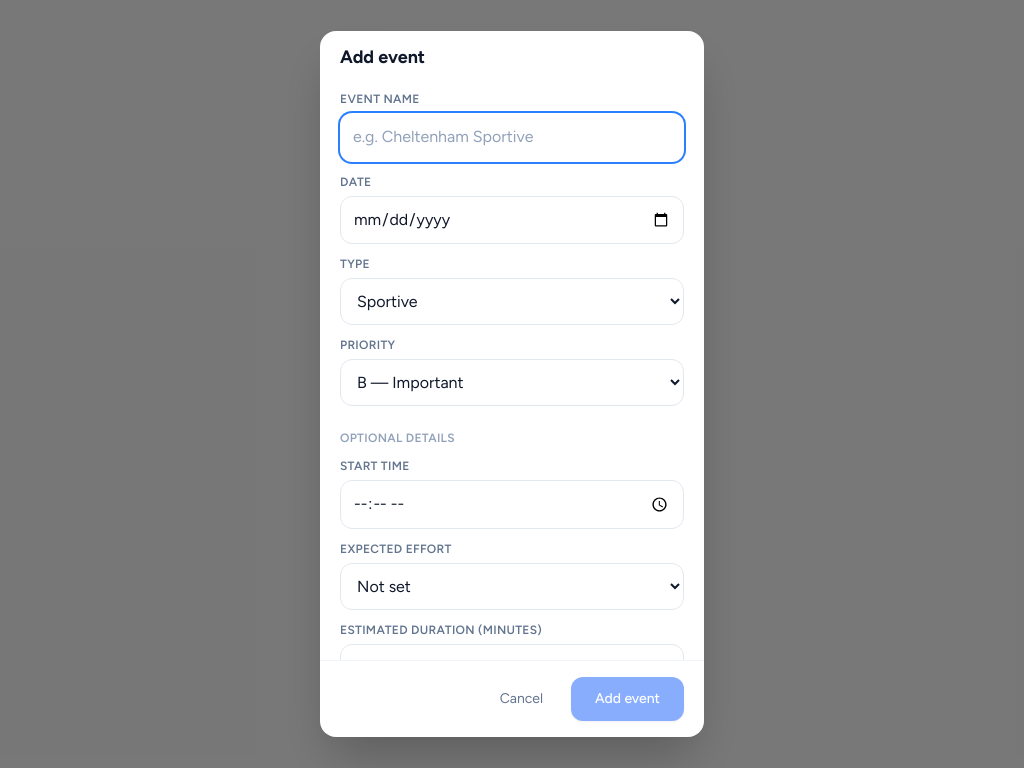
Test: AddEventModal — holiday date range and continue training › shows End date and Continue training once Holiday riding is selected
Select "Holiday riding" in the dropdown showing "Sportive" below "Type" at {"x": 512, "y": 302}, box [340,278,684,325]
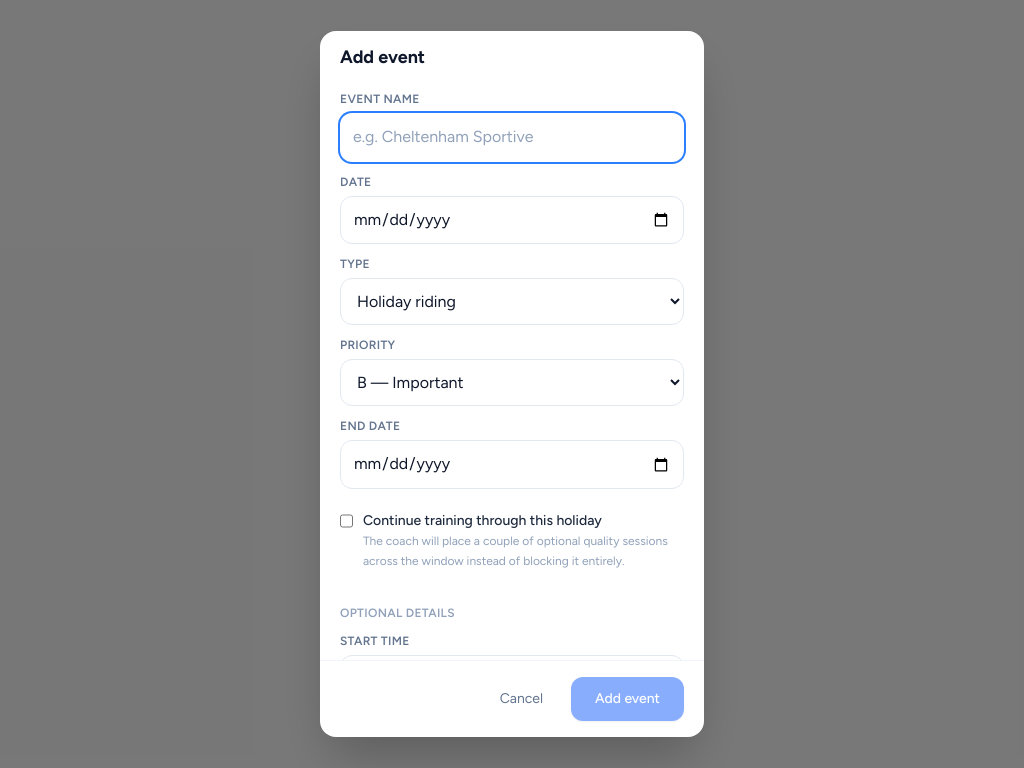
expect the text "End date" is shown: met, box [340,419,400,433]
expect the text "Continue training through this holiday" is shown: met, box [363,512,602,529]
